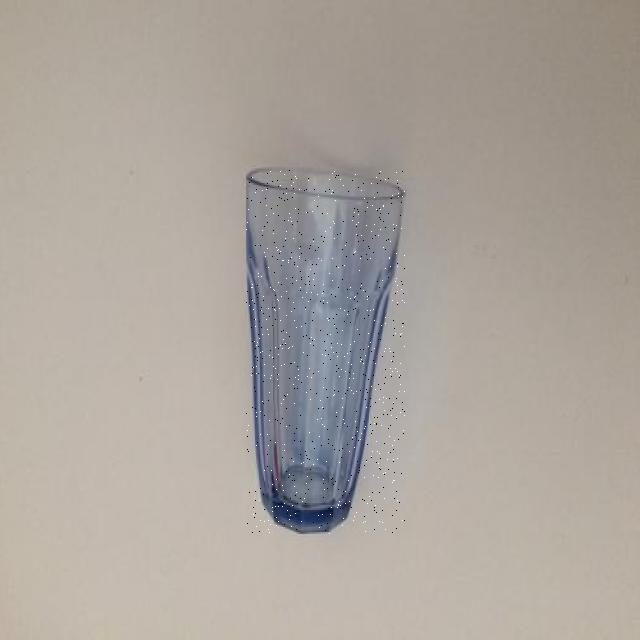glass: (247, 170, 405, 533)
